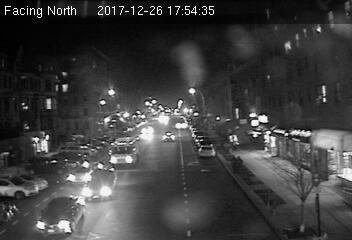car: (35, 196, 86, 236), (81, 168, 115, 204), (68, 161, 101, 184), (199, 143, 214, 158), (161, 131, 175, 143)
truck: (110, 135, 140, 169)
